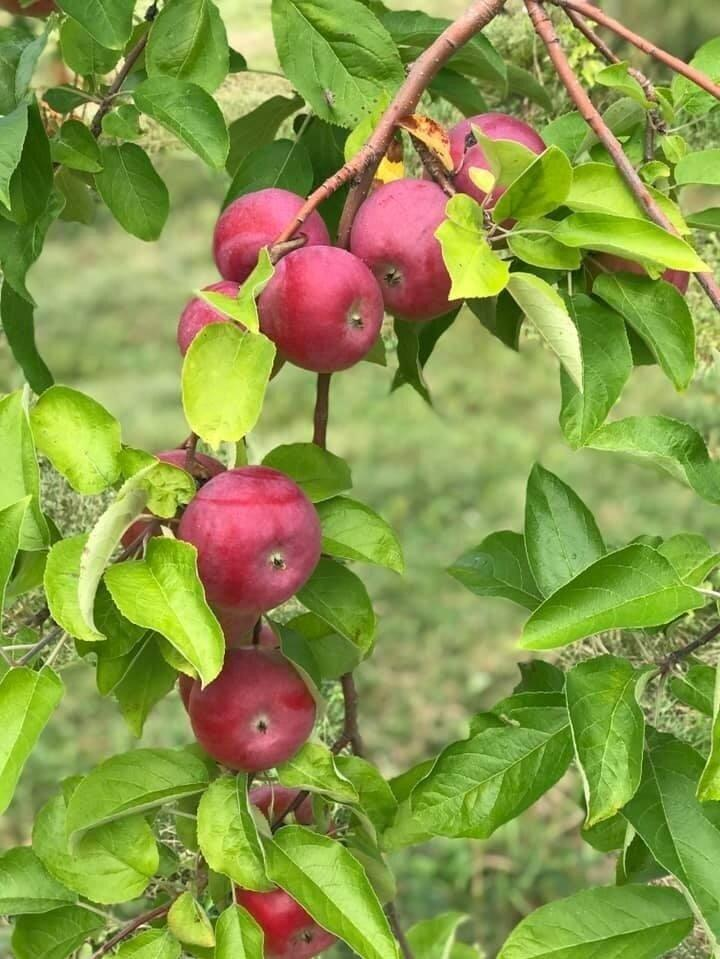apple: (182, 467, 318, 613), (188, 648, 318, 773), (260, 249, 382, 378), (346, 177, 452, 322), (212, 188, 326, 280), (232, 887, 342, 959)
